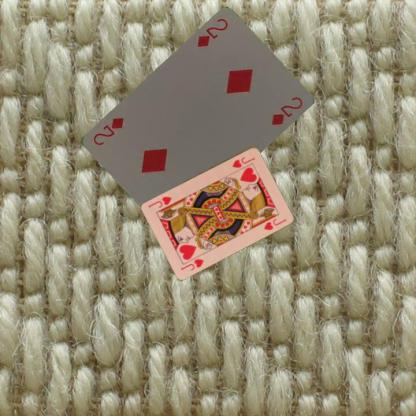2d: (194, 16, 230, 49)
Jh: (178, 256, 205, 272), (229, 154, 256, 168)
